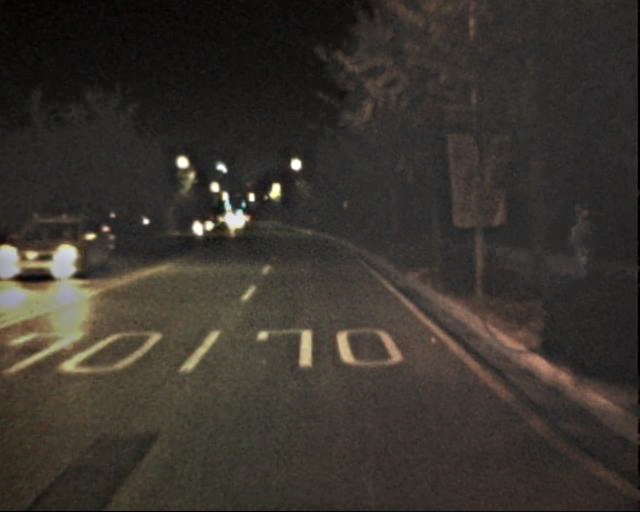person: (566, 209, 603, 300)
